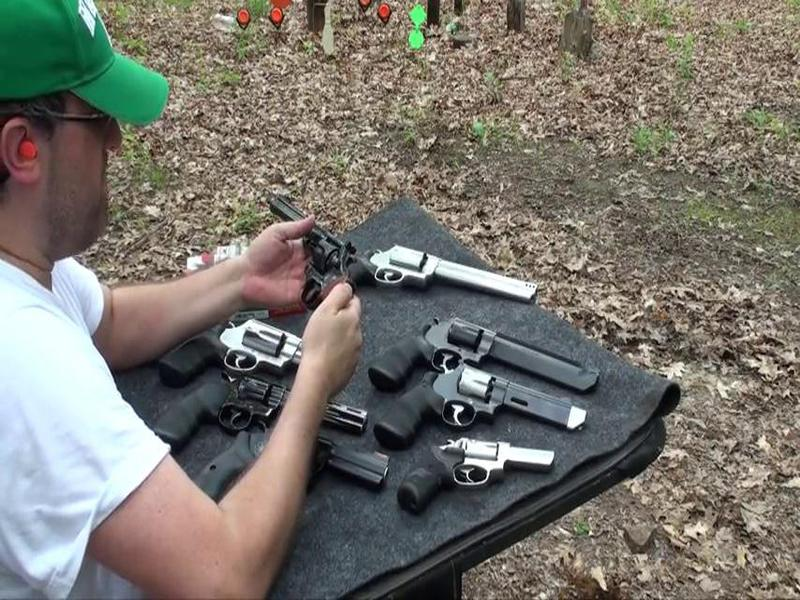Revolver: (256, 193, 363, 349)
